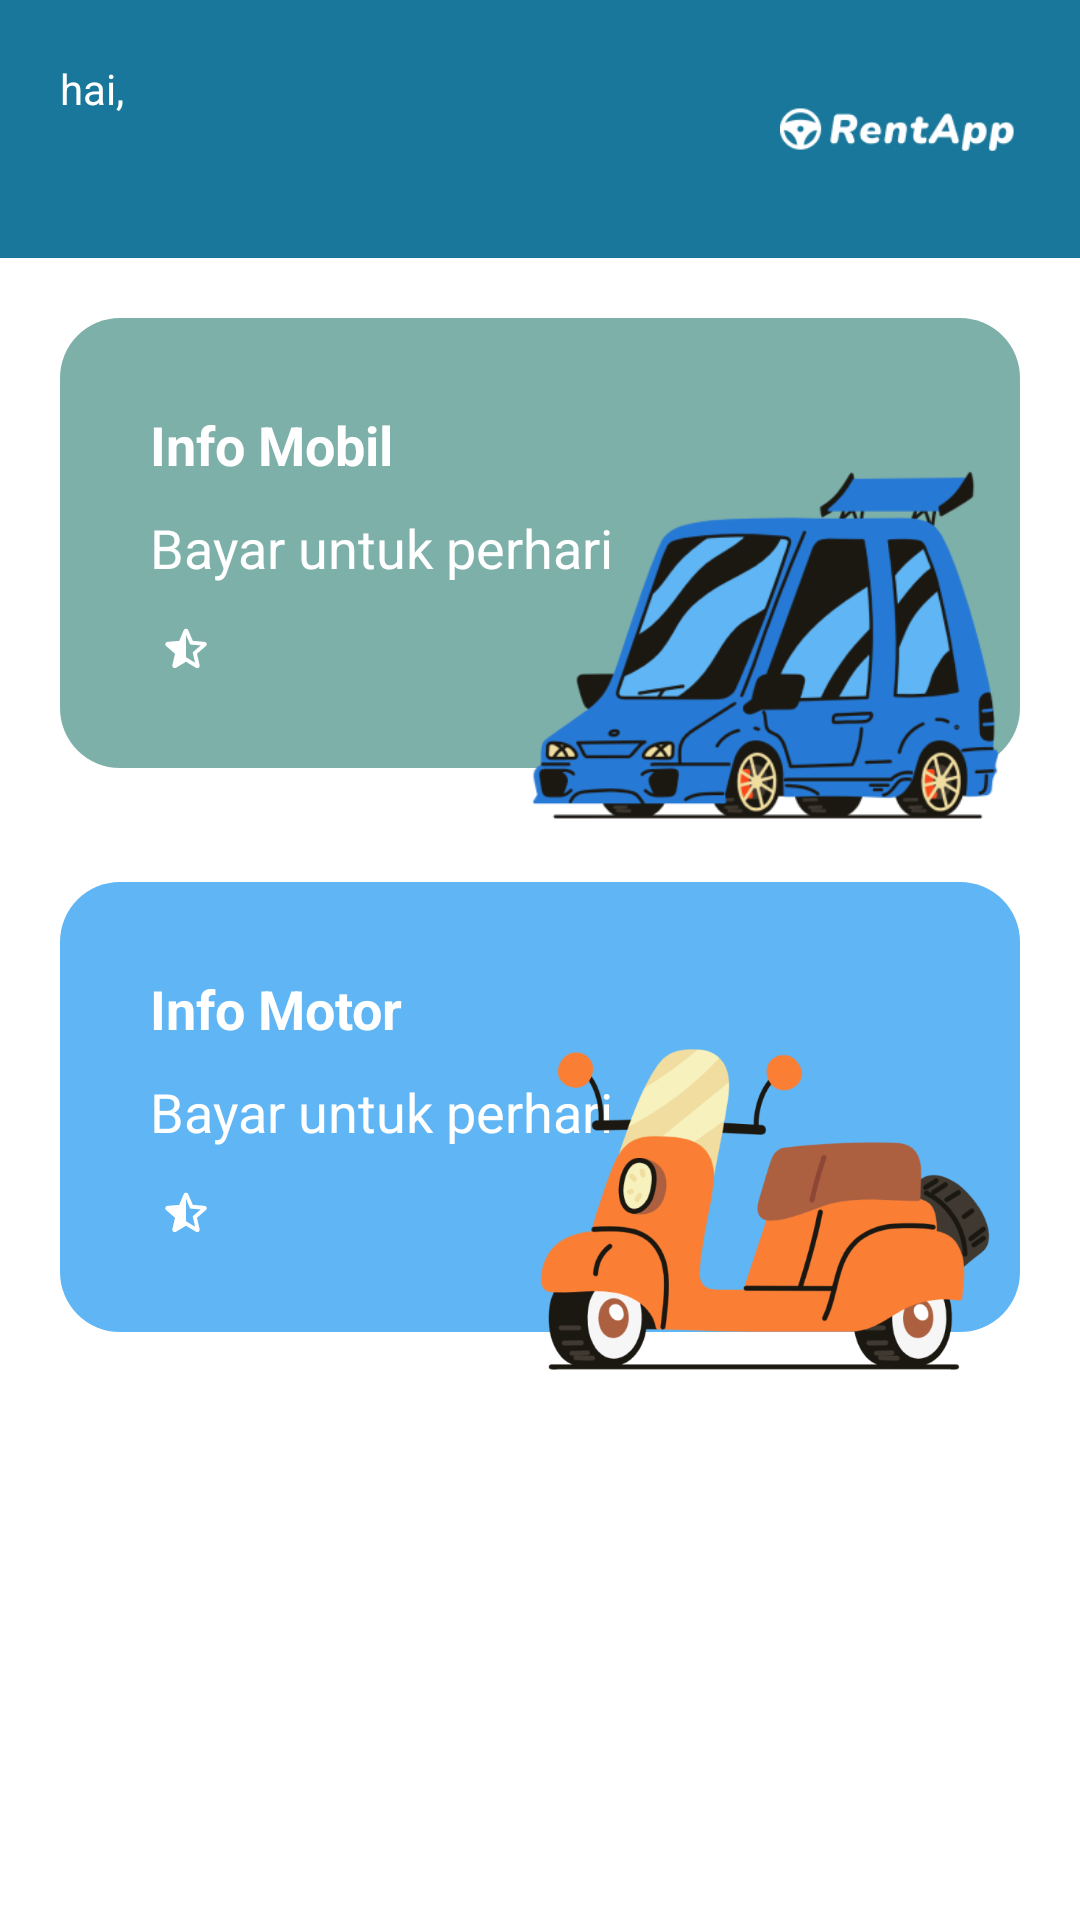

Screen size 1080 x 1920. Icon name, then its center in pixels as point (x, y):
star: point (186, 648), point (186, 1212)
